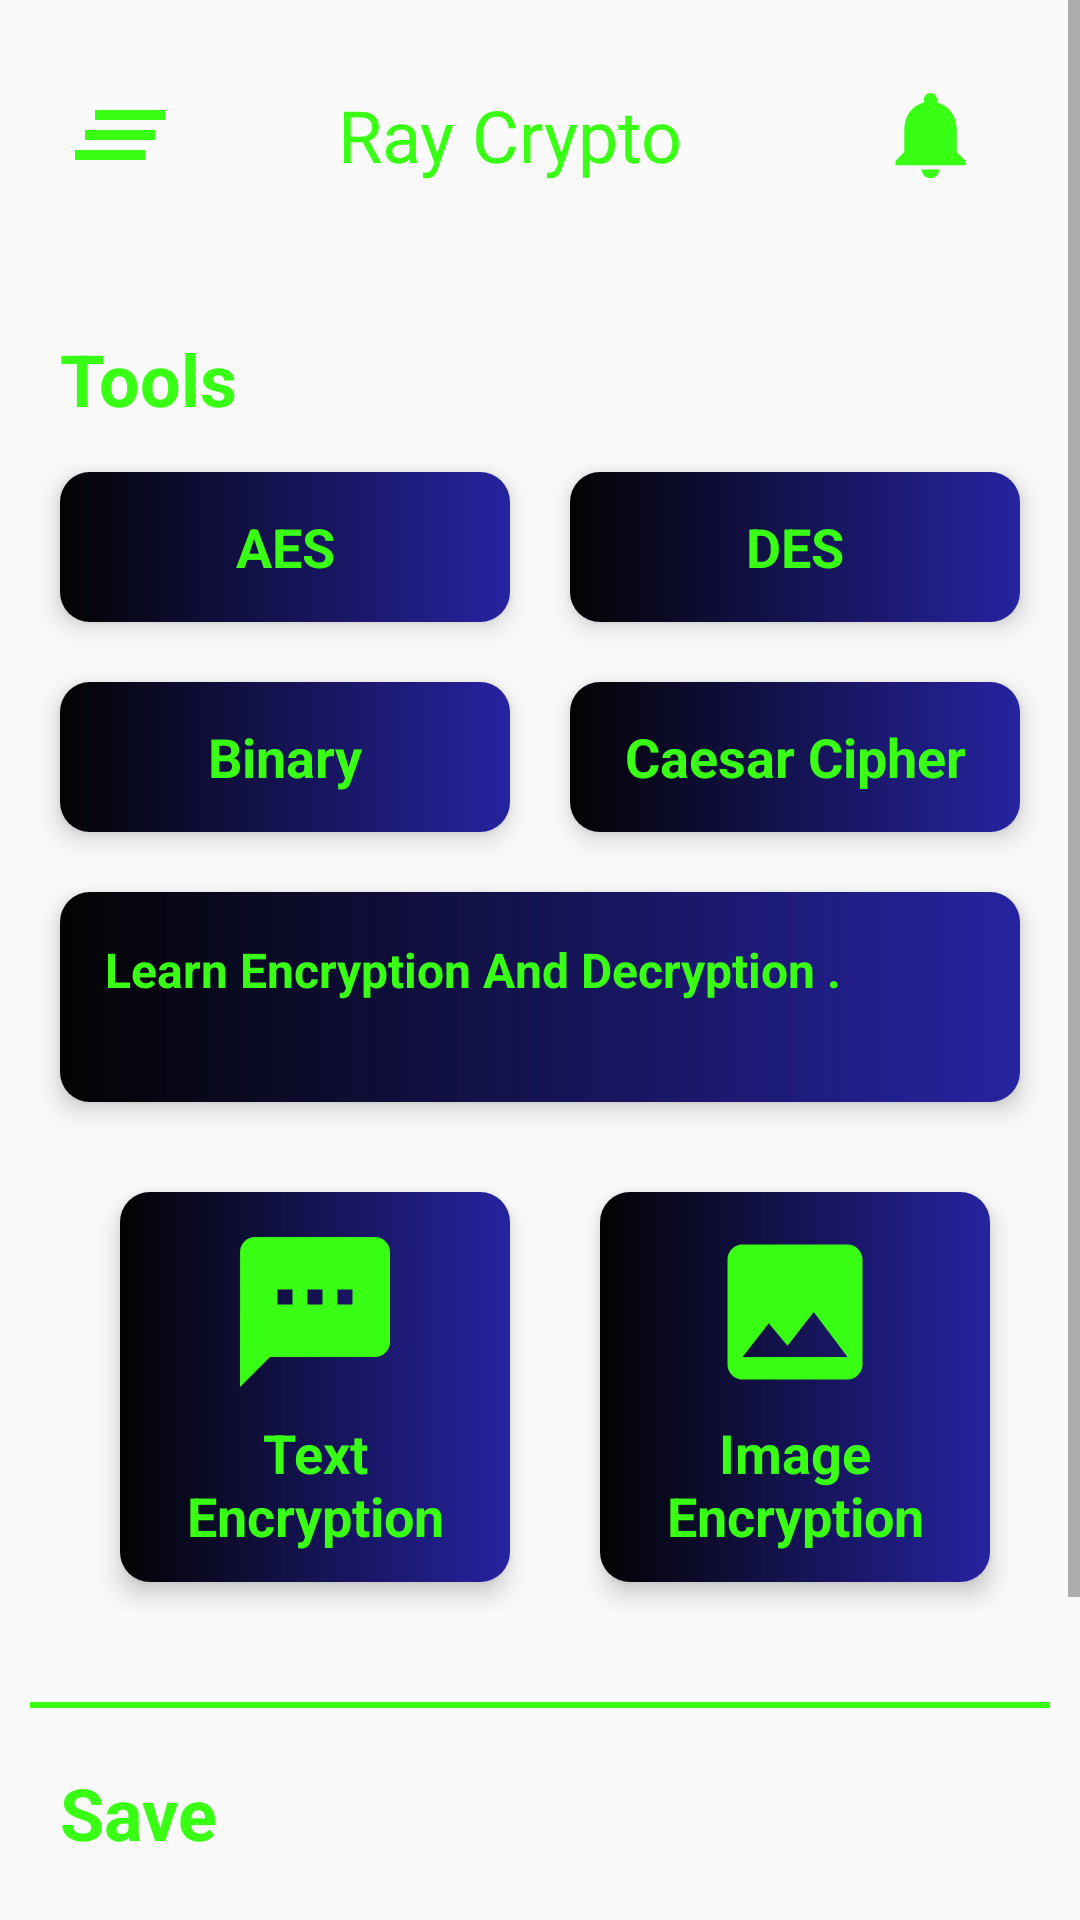

Named icons in this screenshot (1080w x 1920h) and their centers, (x,y):
notifications: (930,136)
